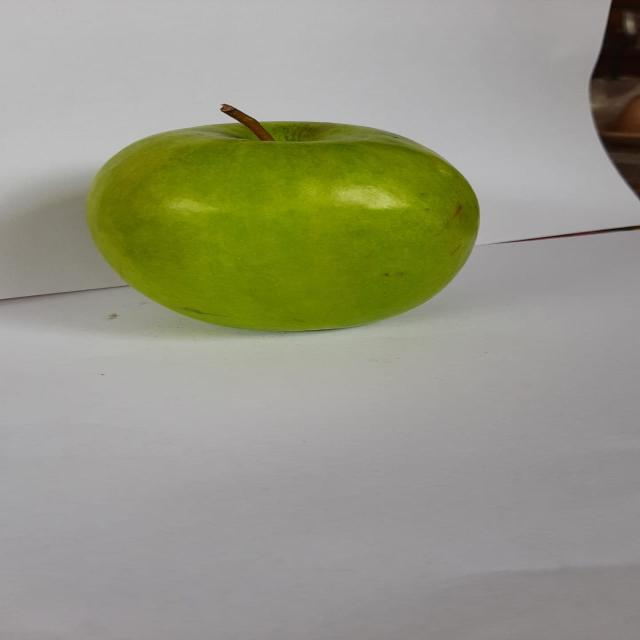50-_ripeness: (71, 98, 485, 342)
